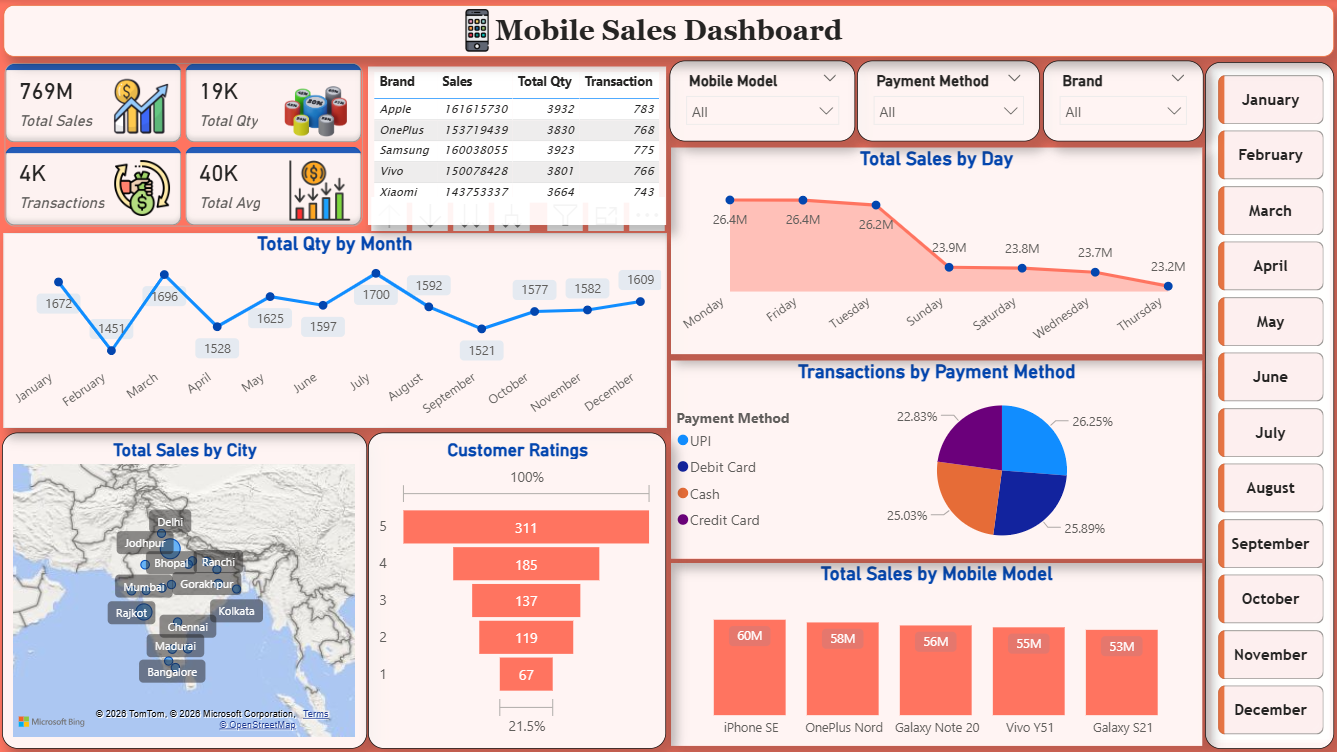

What the dashboard file says about the page in this screenshot:
{"tool":"powerbi","page":{"name":"Page 1","canvas":[1280,720],"ordinal":0},"visuals":[{"type":"shape","box":[1151.6,60.2,123.2,656],"z":0},{"type":"advancedSlicerVisual","fields":{"Values":["Sales_Data.Date.Variation.Date Hierarchy.Month"]},"box":[1158.8,66.7,111.7,640.3],"z":1000},{"type":"cardVisual","fields":{"Data":["Sales_Data.Total_Sales","Sales_Data.Total Qty","Sales_Data.Total Trans","Sales_Data.Total Avg"]},"box":[0.6,55.9,353.1,167],"z":2000},{"type":"map","fields":{"Category":["Sales_Data.City"],"Size":["Sales_Data.Total_Sales"]},"box":[2.2,413.8,348.3,302.2],"z":3000},{"type":"lineChart","fields":{"Category":["Sales_Data.Date.Variation.Date Hierarchy.Month","Sales_Data.Date.Variation.Date Hierarchy.Day"],"Y":["Sales_Data.Total Qty"]},"box":[3.8,222.9,633.1,186.1],"z":4000},{"type":"clusteredColumnChart","fields":{"Category":["Sales_Data.Mobile Model"],"Y":["Sales_Data.Total_Sales"]},"box":[641.8,539.1,507.4,175],"z":5000},{"type":"pieChart","fields":{"Y":["Sales_Data.Transactions"],"Category":["Sales_Data.Payment Method"]},"box":[641.8,345,507.4,189.3],"z":6000},{"type":"funnel","title":"Customer Ratings","fields":{"Category":["Sales_Data.Customer Ratings"],"Y":["CountNonNull(Sales_Data.Customer Ratings)"]},"box":[352.1,413.8,284.7,302.2],"z":7000},{"type":"areaChart","fields":{"Category":["Sales_Data.Day Name"],"Y":["Sales_Data.Total_Sales"]},"box":[641.8,141.4,507.4,197.2],"z":8000},{"type":"tableEx","fields":{"Values":["Sales_Data.Brand","Sales_Data.Total_Sales","Sales_Data.Total Qty","Sales_Data.Transactions"]},"box":[352.1,63.8,284.7,151.1],"z":9000},{"type":"slicer","fields":{"Values":["Sales_Data.Mobile Model"]},"box":[639.9,58.4,177.6,77.3],"z":10000},{"type":"slicer","fields":{"Values":["Sales_Data.Payment Method"]},"box":[818.9,58.4,174.8,77.3],"z":11000},{"type":"slicer","fields":{"Values":["Sales_Data.Brand"]},"box":[996.5,58.4,153.3,77.3],"z":12000},{"type":"textbox","box":[4.8,6.4,1270.9,49.3],"z":13000},{"type":"image","box":[426.3,4.8,58.9,50.9],"z":14000}]}

Visuals, with their boxes in screenshot pixels (x1, y1, x2, y2), scaled from the page's 1280x720 canvas onto the 1337x752 screenshot:
shape: BBox(1203, 63, 1332, 748)
advancedSlicerVisual - Sales_Data.Date.Variation.Date Hierarchy.Month: BBox(1210, 70, 1327, 738)
cardVisual - Sales_Data.Total_Sales x Sales_Data.Total Qty: BBox(1, 58, 369, 233)
map - Sales_Data.City x Sales_Data.Total_Sales: BBox(2, 432, 366, 748)
lineChart - Sales_Data.Date.Variation.Date Hierarchy.Month x Sales_Data.Date.Variation.Date Hierarchy.Day: BBox(4, 233, 665, 427)
clusteredColumnChart - Sales_Data.Mobile Model x Sales_Data.Total_Sales: BBox(670, 563, 1200, 746)
pieChart - Sales_Data.Transactions x Sales_Data.Payment Method: BBox(670, 360, 1200, 558)
"Customer Ratings" funnel: BBox(368, 432, 665, 748)
areaChart - Sales_Data.Day Name x Sales_Data.Total_Sales: BBox(670, 148, 1200, 354)
tableEx - Sales_Data.Brand x Sales_Data.Total_Sales: BBox(368, 67, 665, 224)
slicer - Sales_Data.Mobile Model: BBox(668, 61, 854, 142)
slicer - Sales_Data.Payment Method: BBox(855, 61, 1038, 142)
slicer - Sales_Data.Brand: BBox(1041, 61, 1201, 142)
textbox: BBox(5, 7, 1333, 58)
image: BBox(445, 5, 507, 58)
